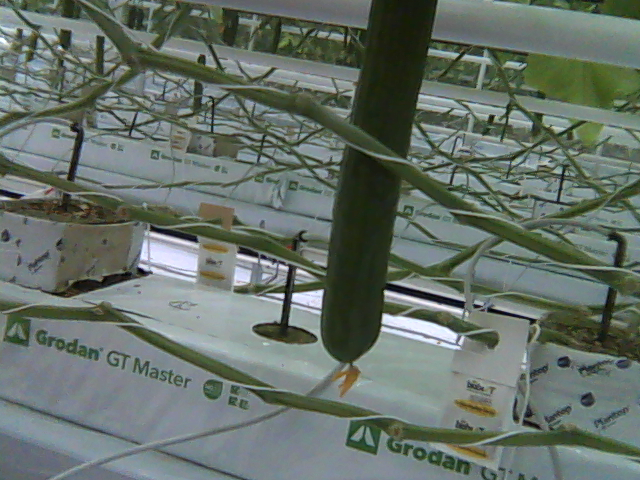concombre: (320, 1, 438, 401)
